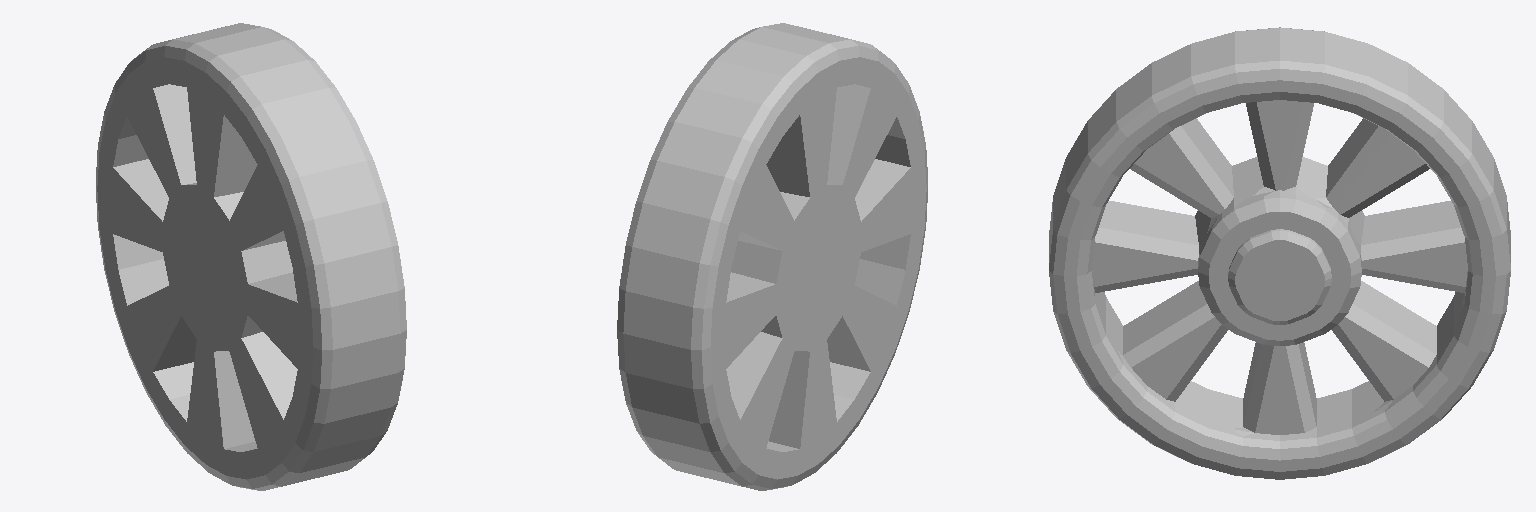
The model's file is SM_roue_loco.obj.
3 views of the same model, side by side, from view 1: azimuth 30°, elevation 25°; view 2: azimuth 150°, elevation 25°; view 3: azimuth 270°, elevation 25° (orthographic).
Parts seen in each view (by area): view 1: roue; view 2: roue; view 3: roue.
Boxes of the visible parts, box(x1,y1,x2,y2) form: roue: box(96, 23, 406, 490); roue: box(617, 23, 927, 490); roue: box(1049, 27, 1510, 479).
Size of the model in its own units: 0.3931 by 1.55 by 1.55.